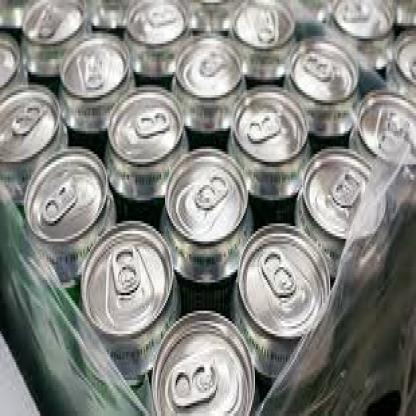METAL: (77, 216, 181, 403), (232, 221, 330, 393), (23, 144, 115, 318), (158, 141, 251, 308), (293, 144, 385, 288), (104, 82, 190, 229), (150, 303, 259, 413), (226, 82, 308, 221), (169, 31, 246, 154), (56, 31, 133, 149), (282, 33, 353, 149), (0, 80, 66, 198), (120, 0, 191, 88), (20, 0, 91, 82), (349, 87, 415, 175), (228, 0, 297, 77), (321, 0, 389, 67), (0, 26, 24, 95), (386, 29, 414, 88)
